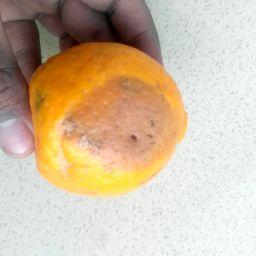orange: (28, 40, 189, 198)
